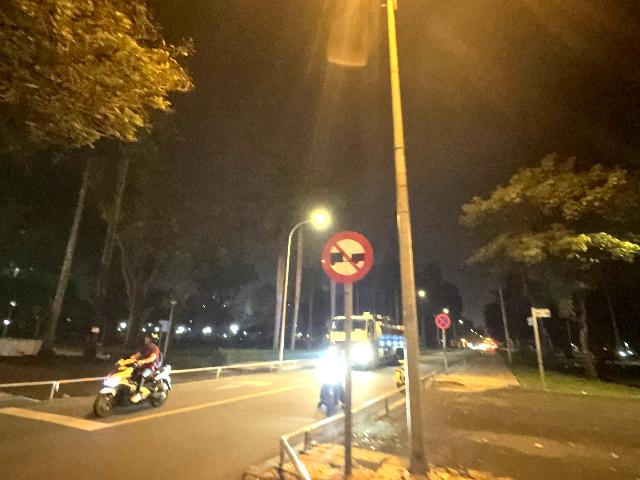cam-xe-somi-romooc: (321, 231, 374, 284)
